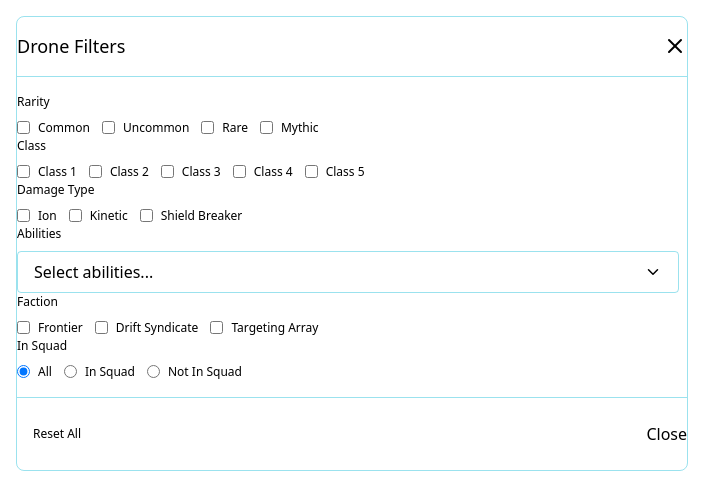
Test case: DroneFilterModal › Abilities Filter › should show ability dropdown with all available abilities
Click to open abilities dropdown - find by "Select abilities..." text
Click the button "Select abilities...": coordinates (94, 272) [17,250,679,292]
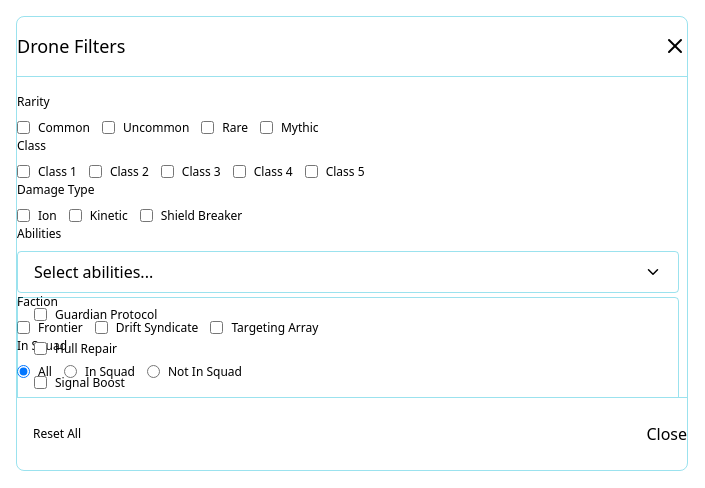
Result: the text "Guardian Protocol" is shown at [55,306,157,324]
Result: the text "Hull Repair" is shown at [55,340,117,358]
